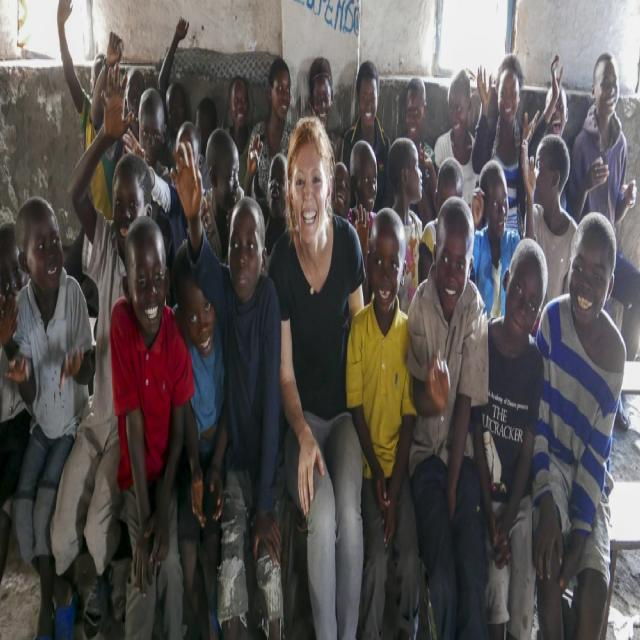body: (48, 60, 154, 640), (167, 137, 288, 639), (264, 114, 373, 639), (527, 208, 627, 639), (402, 194, 498, 638), (4, 193, 93, 639), (109, 212, 196, 639), (344, 204, 424, 639), (464, 234, 548, 638), (170, 244, 233, 640), (567, 50, 640, 362), (55, 0, 124, 219), (470, 52, 540, 240), (519, 130, 581, 337), (469, 157, 522, 322), (339, 59, 392, 216), (89, 27, 147, 164), (245, 55, 298, 203), (527, 52, 572, 214), (385, 134, 424, 318), (433, 67, 481, 212), (334, 137, 380, 287), (198, 126, 246, 266), (243, 129, 289, 271), (418, 154, 467, 286), (400, 74, 436, 229), (156, 13, 192, 156), (307, 55, 344, 164), (222, 72, 255, 192), (138, 87, 176, 189), (0, 219, 31, 299), (192, 93, 220, 154)
